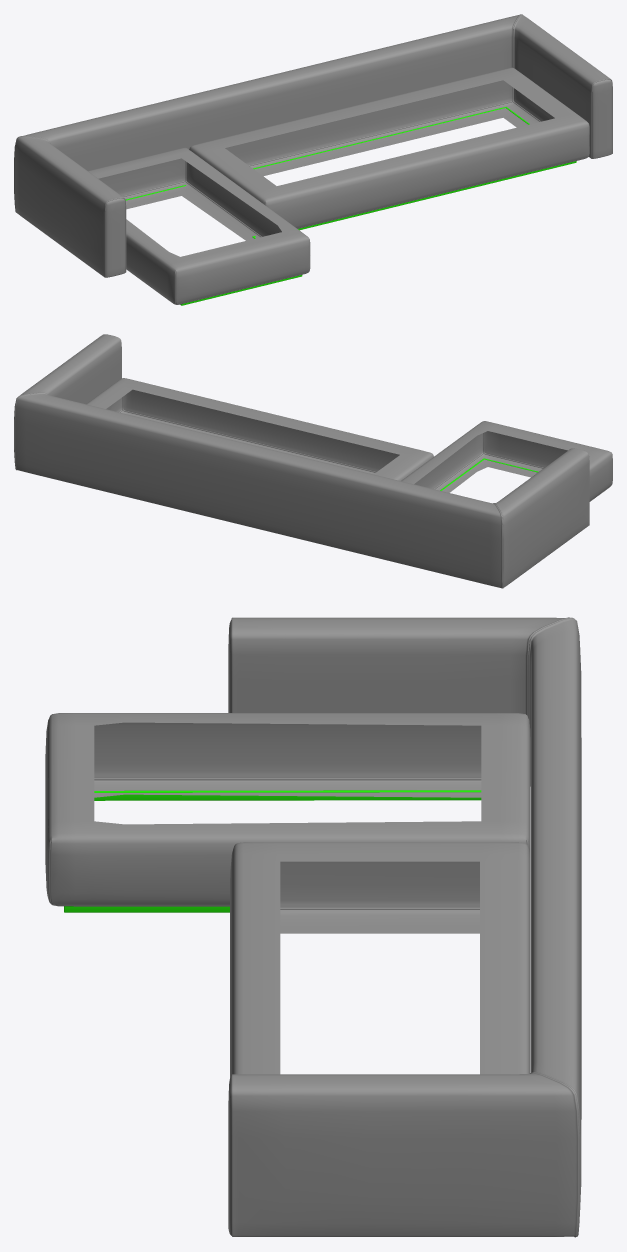
File: Arm panel.fbx
3 views of the same model, one above another, from view 1: azimuth 30°, elevation 25°; view 2: azimuth 150°, elevation 25°; view 3: azimuth 270°, elevation 25° (orthographic). The views are drawn at different scales.
Parts seen in each view (by area): view 1: Arm panel; view 2: Arm panel; view 3: Arm panel.
Part boxes in pixels (left/top/right/bottom): Arm panel: left=14, top=14, right=612, bottom=305; Arm panel: left=14, top=334, right=612, bottom=588; Arm panel: left=45, top=617, right=581, bottom=1237.
Bounding box in the file's own units: 3222 × 489 × 1524.
